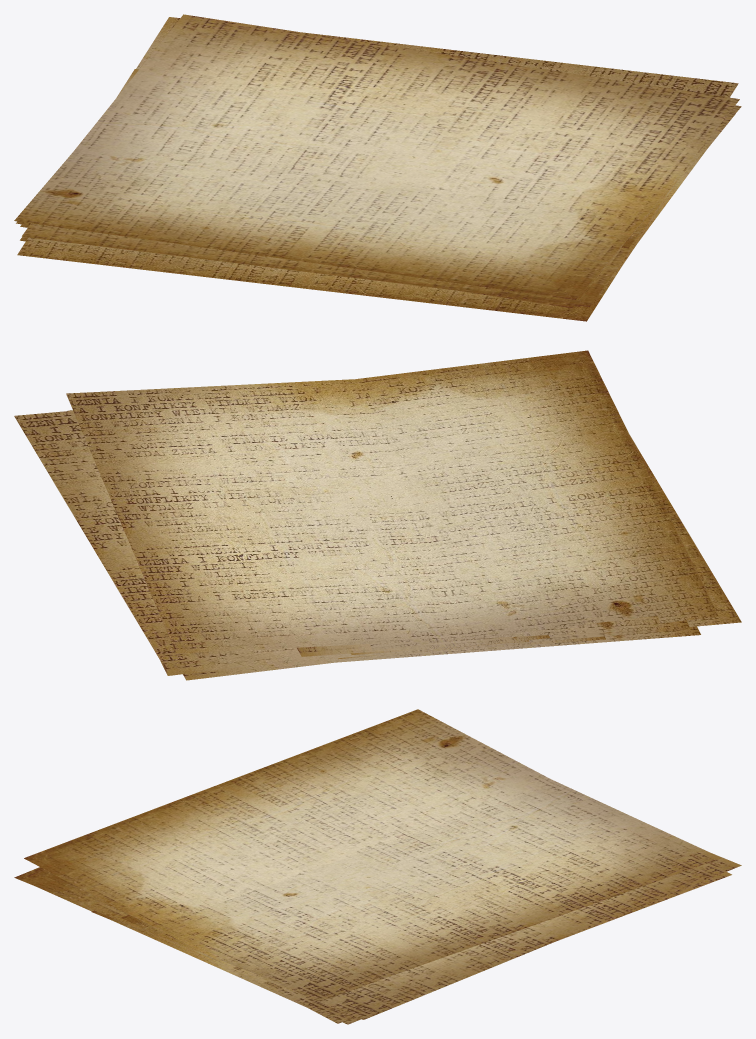
File: BUMAGA.fbx
3 views of the same model, one above another, from view 1: azimuth 30°, elevation 25°; view 2: azimuth 150°, elevation 25°; view 3: azimuth 270°, elevation 25° (orthographic). The views are drawn at different scales.
Parts seen in each view (by area): view 1: BUMAGA.003; view 2: BUMAGA.003; view 3: BUMAGA.003.
Part boxes in pixels (<box>): BUMAGA.003: <box>14,14,741,321</box>; BUMAGA.003: <box>14,350,741,680</box>; BUMAGA.003: <box>14,709,741,1024</box>.
Size of the model in its own units: 177 by 5.93 by 177.
1 material, 1 textured.
